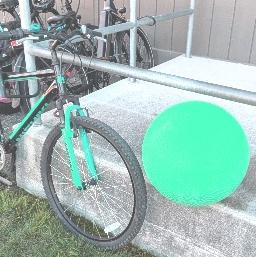algae: (139, 98, 249, 204)
